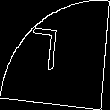L_S: (38, 28, 72, 82)
